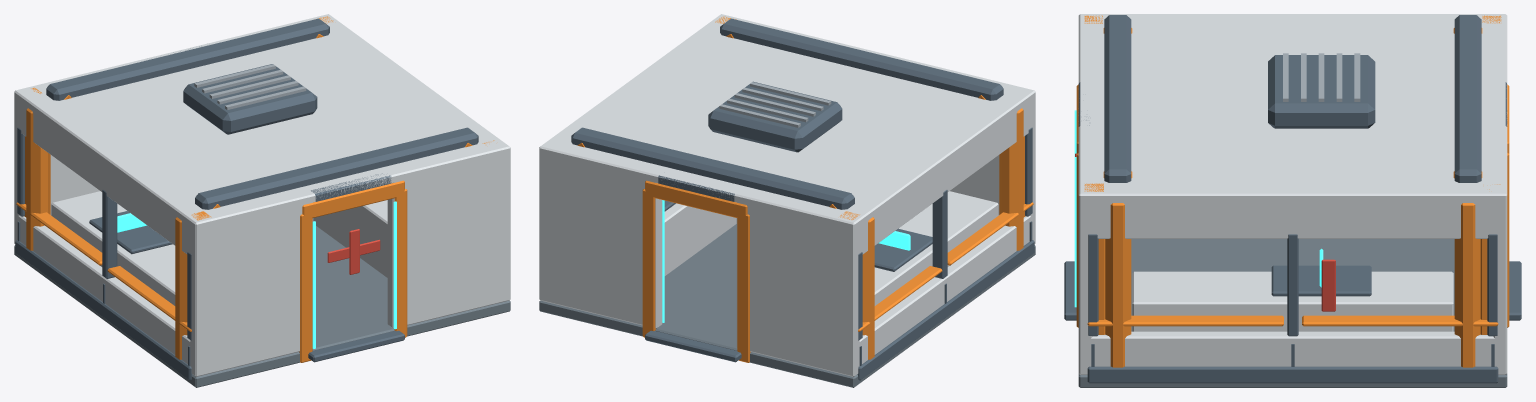
File: room-MedicalRoom.fbx
3 views of the same model, side by side, from view 1: azimuth 30°, elevation 25°; view 2: azimuth 150°, elevation 25°; view 3: azimuth 270°, elevation 25° (orthographic). The views are drawn at different scales.
Visible parts, largest first — view 1: room-MedicalRoom_Roof.001, room-MedicalRoom_End panel.005, room-MedicalRoom_End panel.004, room-MedicalRoom_Deck.001, room-MedicalRoom_Window sill.002, room-MedicalRoom_Roof cross brace, room-MedicalRoom_Roof cross brace.001, room-MedicalRoom_Window head.002, room-MedicalRoom_Roof service pod, room-MedicalRoom_Station.002, room-MedicalRoom_Station.003, room-MedicalRoom_Lower armour band (+22 smaller); view 2: room-MedicalRoom_Roof.001, room-MedicalRoom_End panel.007, room-MedicalRoom_End panel.006, room-MedicalRoom_Deck.001, room-MedicalRoom_Window sill.002, room-MedicalRoom_Roof cross brace.001, room-MedicalRoom_Roof cross brace, room-MedicalRoom_Window head.002, room-MedicalRoom_Roof service pod, room-MedicalRoom_Station.002, room-MedicalRoom_Station.003, room-MedicalRoom_Lower armour band (+18 smaller); view 3: room-MedicalRoom_Roof.001, room-MedicalRoom_Window head.003, room-MedicalRoom_Window sill.003, room-MedicalRoom_Station.003, room-MedicalRoom_Deck.001, room-MedicalRoom_Lower armour band.001, room-MedicalRoom_Roof service pod, room-MedicalRoom_Roof cross brace, room-MedicalRoom_Roof cross brace.001, room-MedicalRoom_Armoured corner post.001, room-MedicalRoom_Armoured corner post.003, room-MedicalRoom_Console.003 (+15 smaller).
Part boxes in pixels (box(x1,y1,x2,y2)): room-MedicalRoom_Roof.001: box(14, 14, 510, 229); room-MedicalRoom_End panel.005: box(387, 153, 510, 328); room-MedicalRoom_End panel.004: box(190, 202, 313, 376); room-MedicalRoom_Deck.001: box(14, 226, 510, 387); room-MedicalRoom_Window sill.002: box(14, 213, 196, 375); room-MedicalRoom_Roof cross brace: box(195, 127, 478, 209); room-MedicalRoom_Roof cross brace.001: box(46, 18, 329, 100); room-MedicalRoom_Window head.002: box(14, 98, 204, 259); room-MedicalRoom_Roof service pod: box(183, 64, 317, 134); room-MedicalRoom_Station.002: box(51, 191, 175, 305); room-MedicalRoom_Station.003: box(313, 200, 387, 277); room-MedicalRoom_Lower armour band: box(15, 240, 192, 380); room-MedicalRoom_Roof.001: box(539, 14, 1035, 230); room-MedicalRoom_End panel.007: box(539, 153, 662, 328); room-MedicalRoom_End panel.006: box(736, 202, 859, 376); room-MedicalRoom_Deck.001: box(539, 224, 1035, 387); room-MedicalRoom_Window sill.002: box(853, 213, 1035, 376); room-MedicalRoom_Roof cross brace.001: box(571, 127, 854, 209); room-MedicalRoom_Roof cross brace: box(720, 18, 1003, 100); room-MedicalRoom_Window head.002: box(845, 98, 1035, 259); room-MedicalRoom_Roof service pod: box(708, 81, 842, 152); room-MedicalRoom_Station.002: box(874, 191, 998, 305); room-MedicalRoom_Station.003: box(664, 203, 736, 275); room-MedicalRoom_Lower armour band: box(857, 240, 1034, 380); room-MedicalRoom_Roof.001: box(1078, 14, 1507, 203); room-MedicalRoom_Window head.003: box(1078, 202, 1507, 238); room-MedicalRoom_Window sill.003: box(1078, 331, 1505, 374); room-MedicalRoom_Station.003: box(1132, 271, 1453, 331); room-MedicalRoom_Deck.001: box(1078, 239, 1507, 387); room-MedicalRoom_Lower armour band.001: box(1087, 366, 1498, 383); room-MedicalRoom_Roof service pod: box(1268, 55, 1375, 128); room-MedicalRoom_Roof cross brace: box(1104, 15, 1131, 182); room-MedicalRoom_Roof cross brace.001: box(1454, 15, 1481, 182); room-MedicalRoom_Armoured corner post.001: box(1105, 203, 1131, 367); room-MedicalRoom_Armoured corner post.003: box(1454, 203, 1480, 367); room-MedicalRoom_Console.003: box(1271, 265, 1371, 296).
Size of the model in its own units: 610 by 343 by 640.
